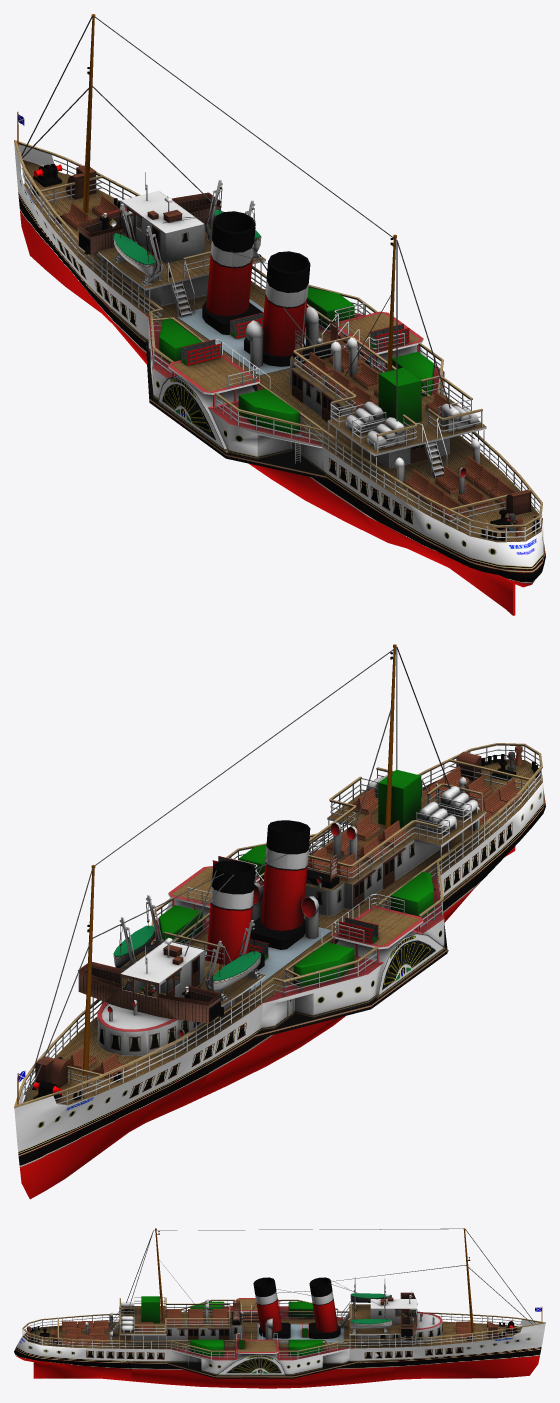
The model's file is Waverley.obj.
The picture shows the model from 3 angles, top to bottom: view 1: azimuth 30°, elevation 25°; view 2: azimuth 150°, elevation 25°; view 3: azimuth 270°, elevation 25°; orthographic projection. The views are drawn at different scales.
Visible parts, largest first — view 1: Frame1_boat_Layer1, Frame2_boat_Layer2, Frame3_boat_Layer3, Frame5_boat_Layer5, Frame4_boat_Layer4; view 2: Frame1_boat_Layer1, Frame2_boat_Layer2, Frame3_boat_Layer3, Frame5_boat_Layer5, Frame4_boat_Layer4; view 3: Frame1_boat_Layer1, Frame2_boat_Layer2, Frame3_boat_Layer3, Frame5_boat_Layer5, Frame4_boat_Layer4.
Part boxes in pixels (x1,y1,x2,y2): Frame1_boat_Layer1: (14,14,545,615); Frame2_boat_Layer2: (14,140,542,541); Frame3_boat_Layer3: (78,172,265,306); Frame5_boat_Layer5: (290,356,486,468); Frame4_boat_Layer4: (113,179,261,286); Frame1_boat_Layer1: (14,644,545,1199); Frame2_boat_Layer2: (14,743,542,1108); Frame3_boat_Layer3: (78,937,265,1056); Frame5_boat_Layer5: (305,775,486,916); Frame4_boat_Layer4: (113,894,261,1001); Frame1_boat_Layer1: (14,1228,545,1388); Frame2_boat_Layer2: (22,1297,545,1359); Frame3_boat_Layer3: (349,1290,442,1343); Frame5_boat_Layer5: (119,1302,243,1342); Frame4_boat_Layer4: (350,1277,391,1333).
Size of the model in its own units: 60.55 by 76.37 by 246.
Materials: 77 (55 with a texture image).
